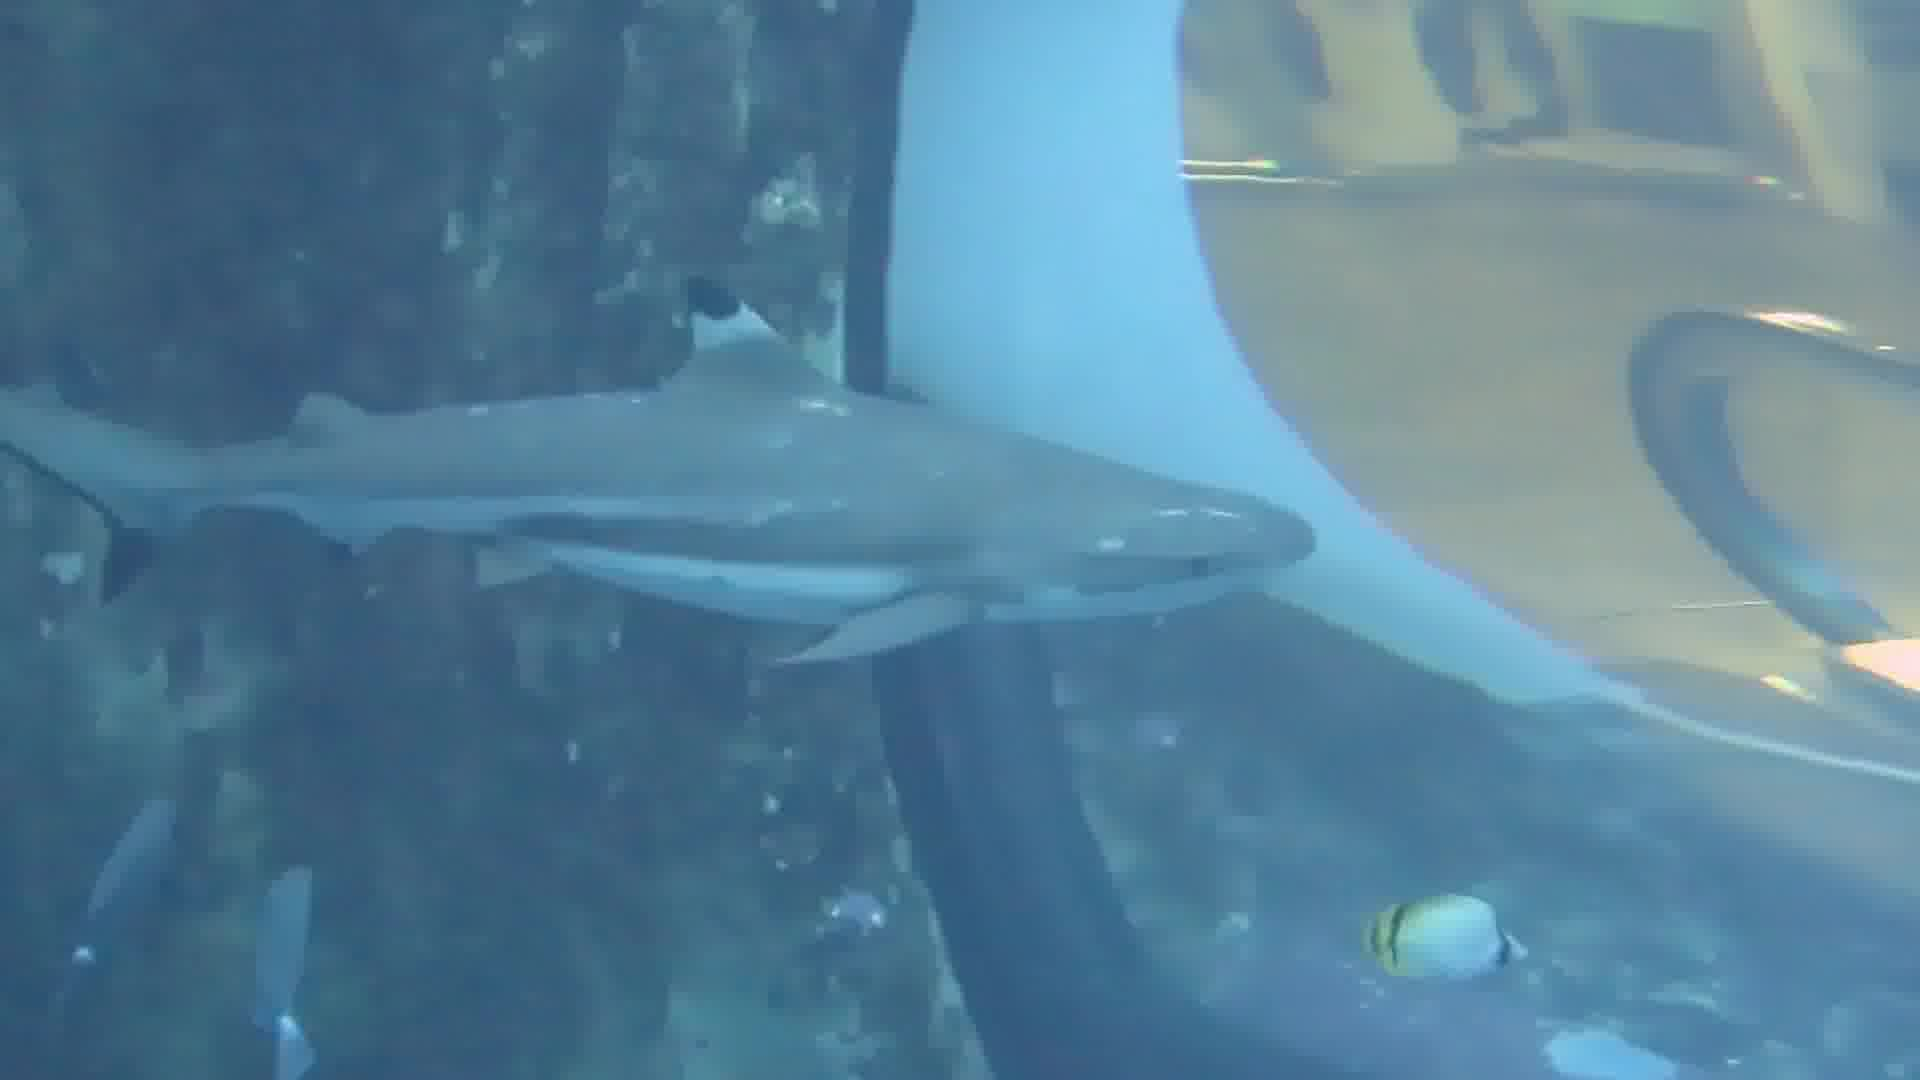Carcharhinus melanopterus: (12, 240, 1316, 691)
